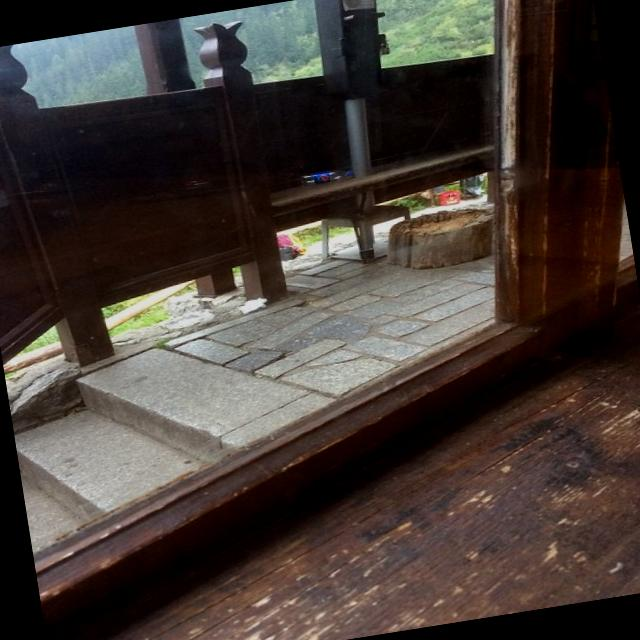Recycle: (302, 165, 355, 188)
